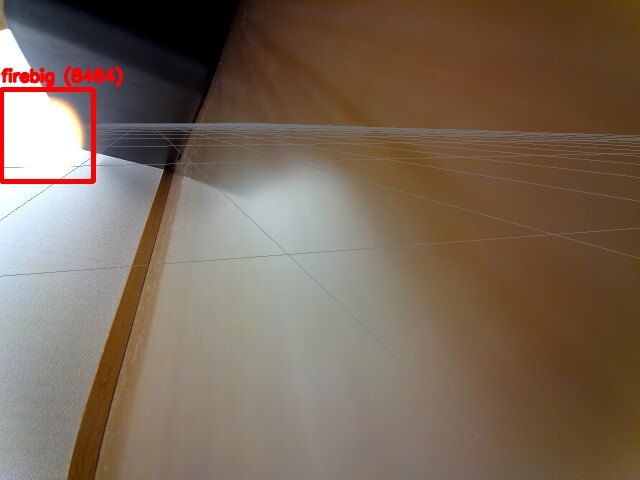firebig: (1, 89, 93, 181)
